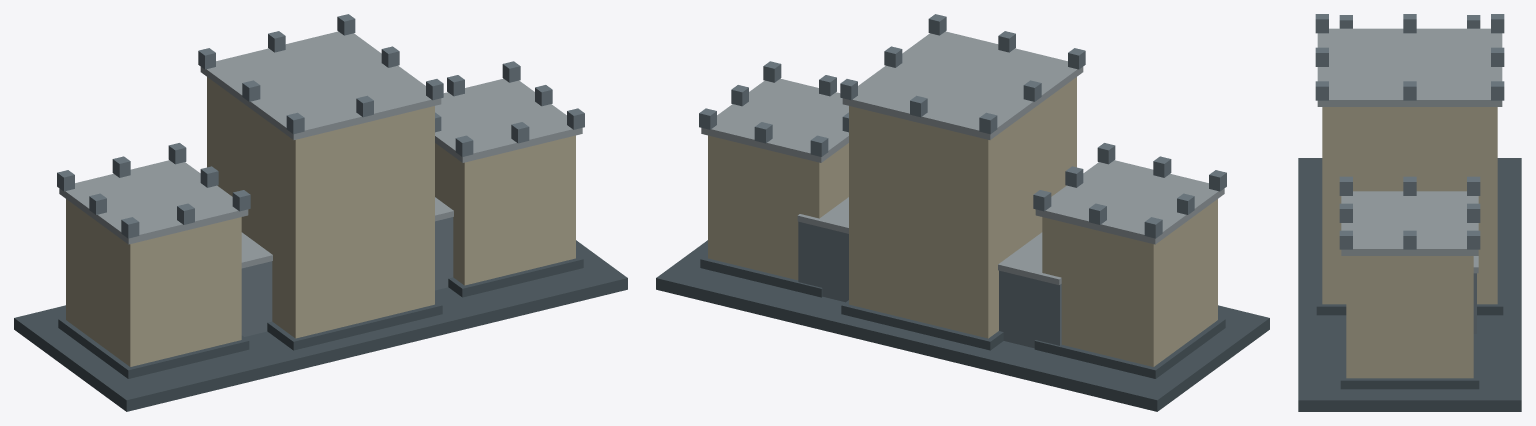
File: Blockland_TownBackdrop_Simple.glb
3 renders of one model, left to right at view 1: azimuth 30°, elevation 25°; view 2: azimuth 150°, elevation 25°; view 3: azimuth 270°, elevation 25°, orthographic.
Visible parts, largest first — view 1: Blockland_TownBackdrop_Simple; view 2: Blockland_TownBackdrop_Simple; view 3: Blockland_TownBackdrop_Simple.
Boxes of the visible parts, box(x1,y1,x2,y2) form: Blockland_TownBackdrop_Simple: box(14, 14, 627, 411); Blockland_TownBackdrop_Simple: box(656, 14, 1269, 411); Blockland_TownBackdrop_Simple: box(1298, 14, 1521, 411).
Size of the model in its own units: 18 by 8.32 by 7.
